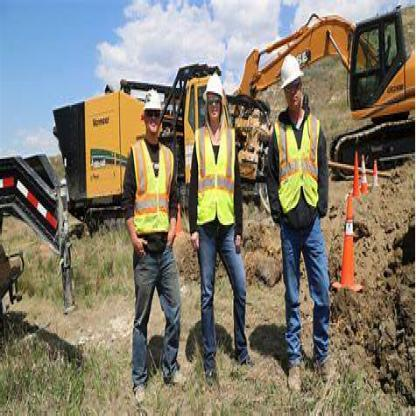person: (267, 39, 350, 406), (191, 49, 261, 392), (126, 71, 180, 394)
